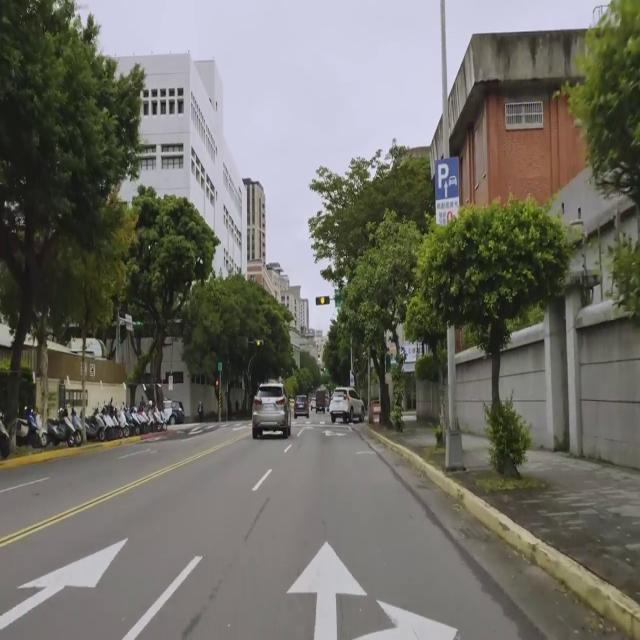yellow light: (315, 296, 330, 306), (254, 339, 264, 346)
